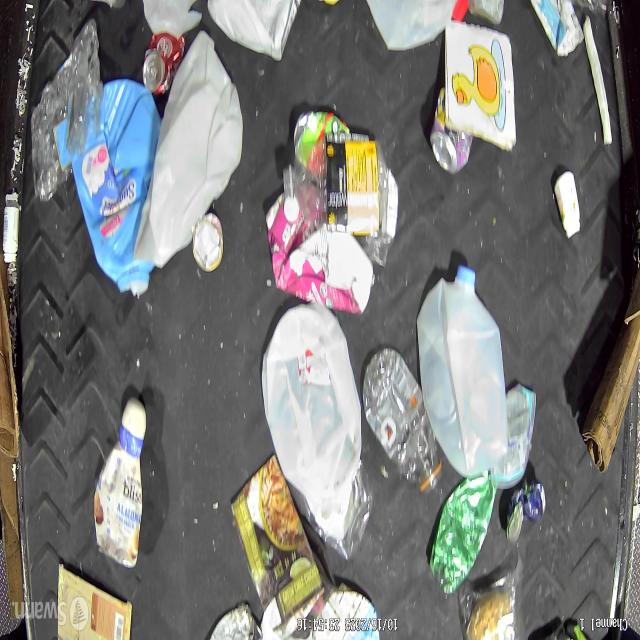can: (430, 88, 470, 173), (142, 26, 180, 96), (504, 482, 546, 542), (192, 209, 226, 273)
milk_jug: (143, 31, 240, 273), (262, 304, 362, 528), (419, 263, 505, 482), (208, 0, 302, 62), (358, 0, 466, 52), (141, 1, 203, 39)
non_white_jug: (71, 78, 159, 299), (265, 187, 374, 313)
plastic_bottle: (362, 349, 442, 494), (282, 138, 388, 234)
